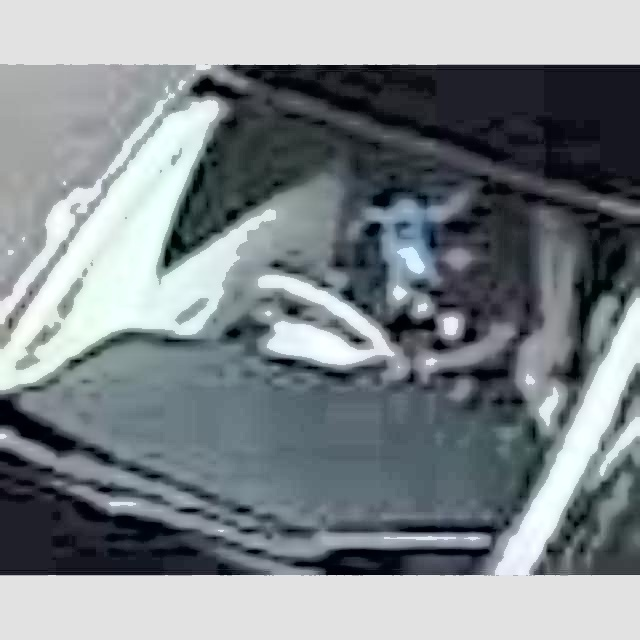tidak-pakai: (266, 133, 524, 371)
